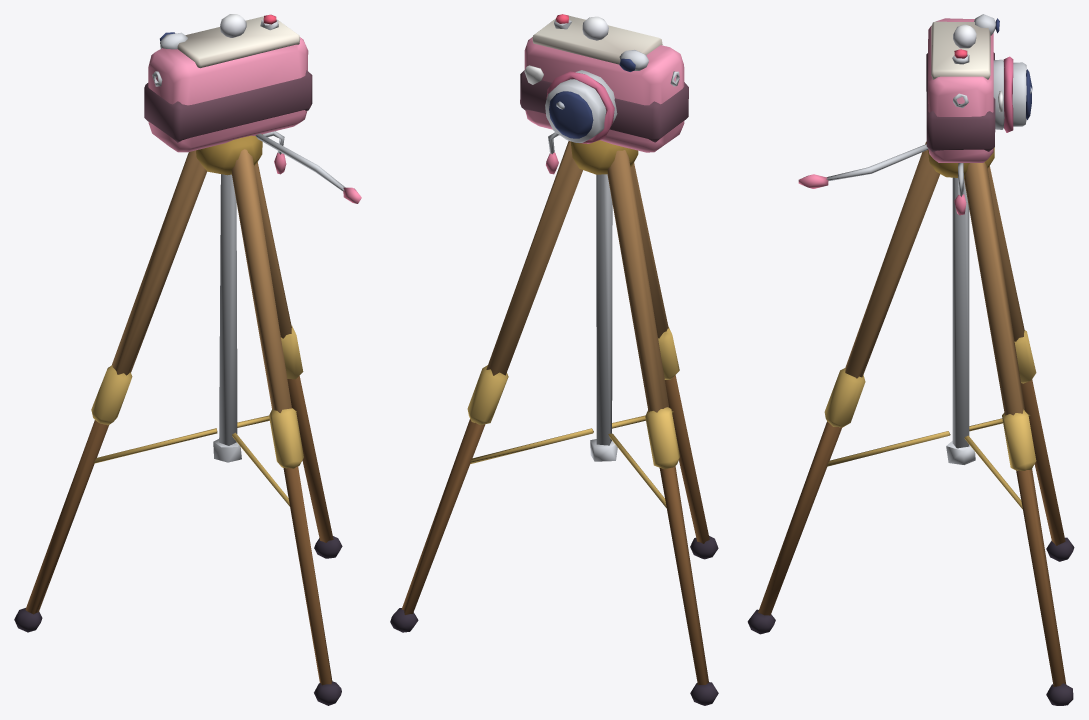
File: prp_photo_tripod_lite.glb
3 views of the same model, side by side, from view 1: azimuth 30°, elevation 25°; view 2: azimuth 150°, elevation 25°; view 3: azimuth 270°, elevation 25° (orthographic).
Visible parts, largest first — view 1: SM_prp_photo_tripod_lite_legs, SM_prp_photo_tripod_lite_head_gloss, SM_prp_photo_tripod_lite_legs_metal, SM_prp_photo_tripod_lite_head, SM_prp_photo_tripod_lite_head_metal; view 2: SM_prp_photo_tripod_lite_legs, SM_prp_photo_tripod_lite_head_gloss, SM_prp_photo_tripod_lite_legs_metal, SM_prp_photo_tripod_lite_head, SM_prp_photo_tripod_lite_head_metal; view 3: SM_prp_photo_tripod_lite_legs, SM_prp_photo_tripod_lite_legs_metal, SM_prp_photo_tripod_lite_head_gloss, SM_prp_photo_tripod_lite_head, SM_prp_photo_tripod_lite_head_metal.
Boxes of the visible parts, x1=… form: SM_prp_photo_tripod_lite_legs: x1=14, y1=149, x2=342, y2=705; SM_prp_photo_tripod_lite_head_gloss: x1=148, y1=14, x2=308, y2=152; SM_prp_photo_tripod_lite_legs_metal: x1=91, y1=131, x2=303, y2=506; SM_prp_photo_tripod_lite_head: x1=144, y1=70, x2=361, y2=203; SM_prp_photo_tripod_lite_head_metal: x1=152, y1=19, x2=345, y2=191; SM_prp_photo_tripod_lite_legs: x1=390, y1=141, x2=718, y2=705; SM_prp_photo_tripod_lite_head_gloss: x1=524, y1=14, x2=684, y2=152; SM_prp_photo_tripod_lite_legs_metal: x1=467, y1=132, x2=679, y2=507; SM_prp_photo_tripod_lite_head: x1=520, y1=70, x2=688, y2=143; SM_prp_photo_tripod_lite_head_metal: x1=545, y1=19, x2=679, y2=142; SM_prp_photo_tripod_lite_legs: x1=747, y1=141, x2=1074, y2=705; SM_prp_photo_tripod_lite_legs_metal: x1=824, y1=147, x2=1036, y2=509; SM_prp_photo_tripod_lite_head_gloss: x1=928, y1=18, x2=1032, y2=162; SM_prp_photo_tripod_lite_head: x1=798, y1=52, x2=1013, y2=188; SM_prp_photo_tripod_lite_head_metal: x1=826, y1=14, x2=1026, y2=181.
Bounding box in the file's own units: 0.9374 × 1.69 × 0.8211.
